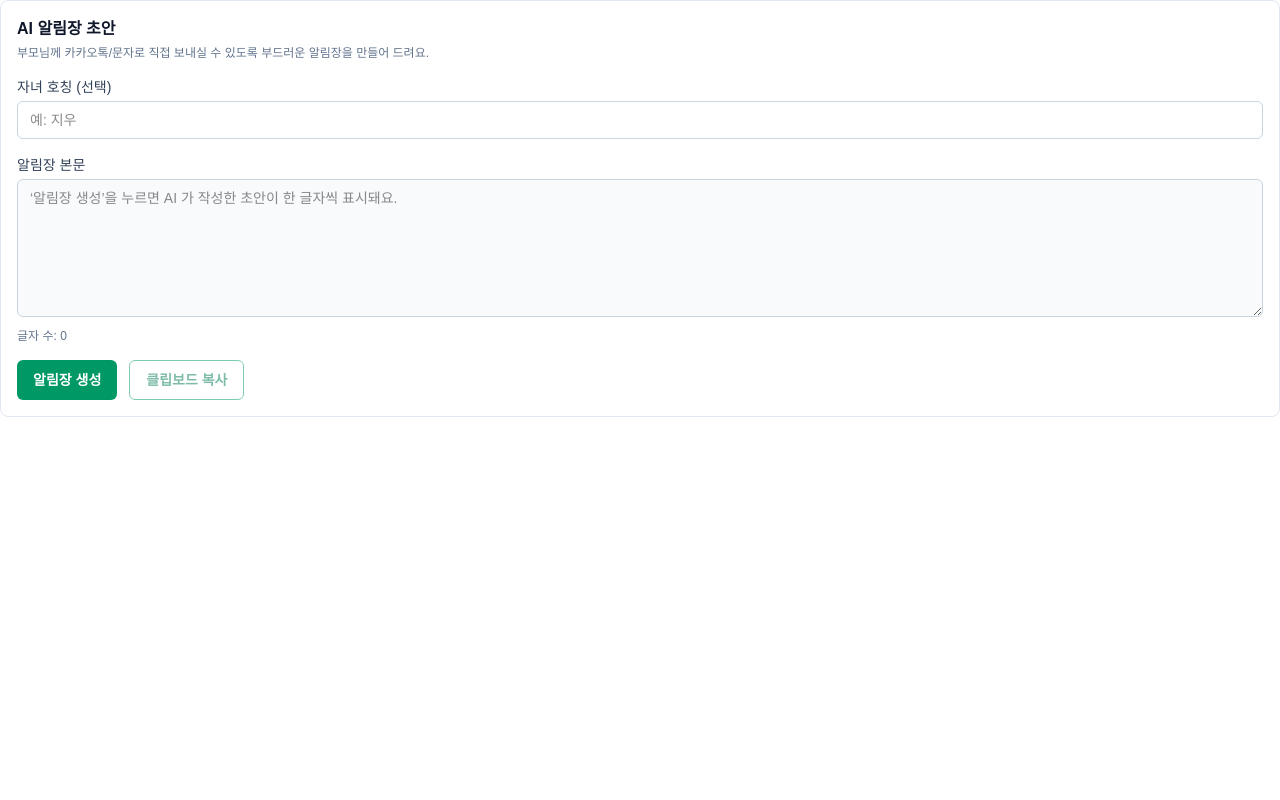
CushionNoteGenerator (email) › scenario 2: parentEmail 존재 + 텍스트 생성 → 이메일 버튼 enabled + 클릭 → confirmation dialog
The width and height of the screenshot is (1280, 800).
Click the button with test id "cushion-generate-button": (67, 380) top-left (17, 360), bottom-right (117, 400)
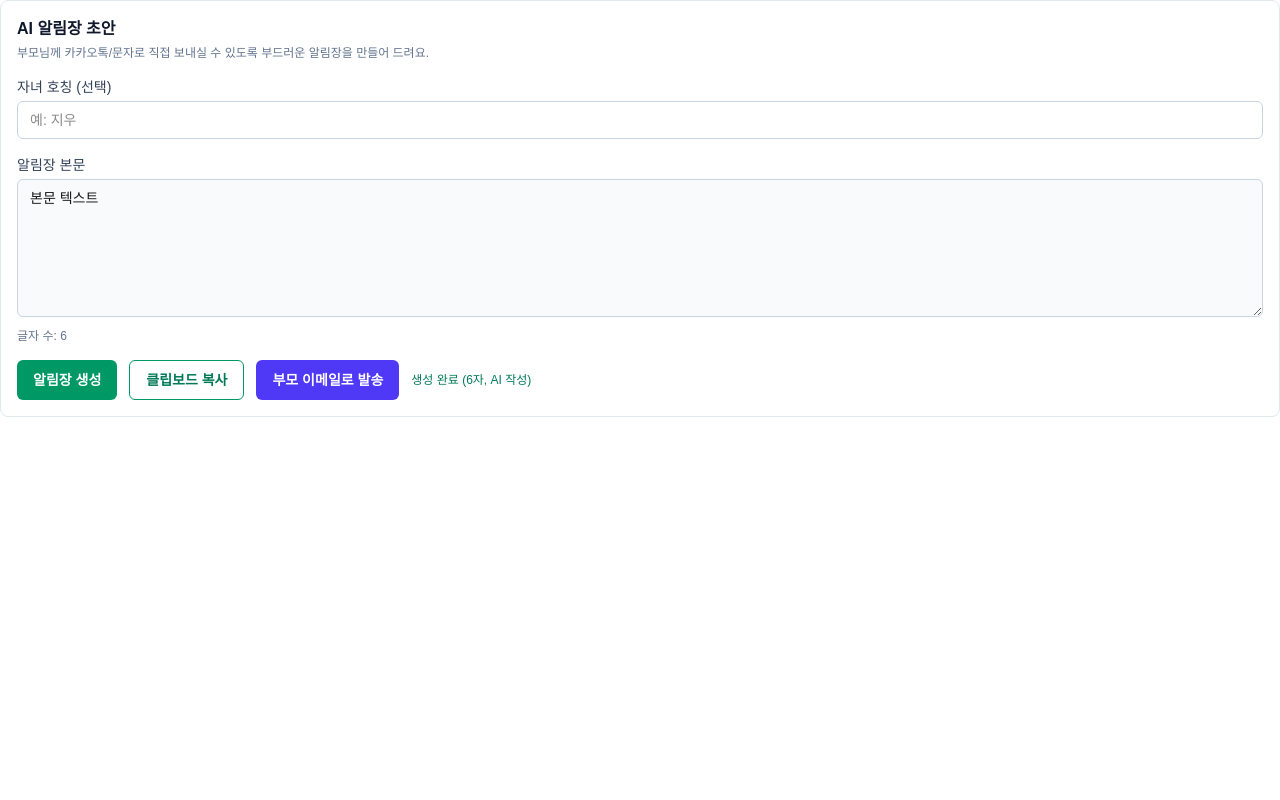
Now the text "생성 완료 (6자, AI 작성)" is shown, box top-left (411, 372), bottom-right (531, 388)
Now the button with test id "cushion-email-button" is enabled
Click the button with test id "cushion-email-button": (328, 380) top-left (256, 360), bottom-right (399, 400)
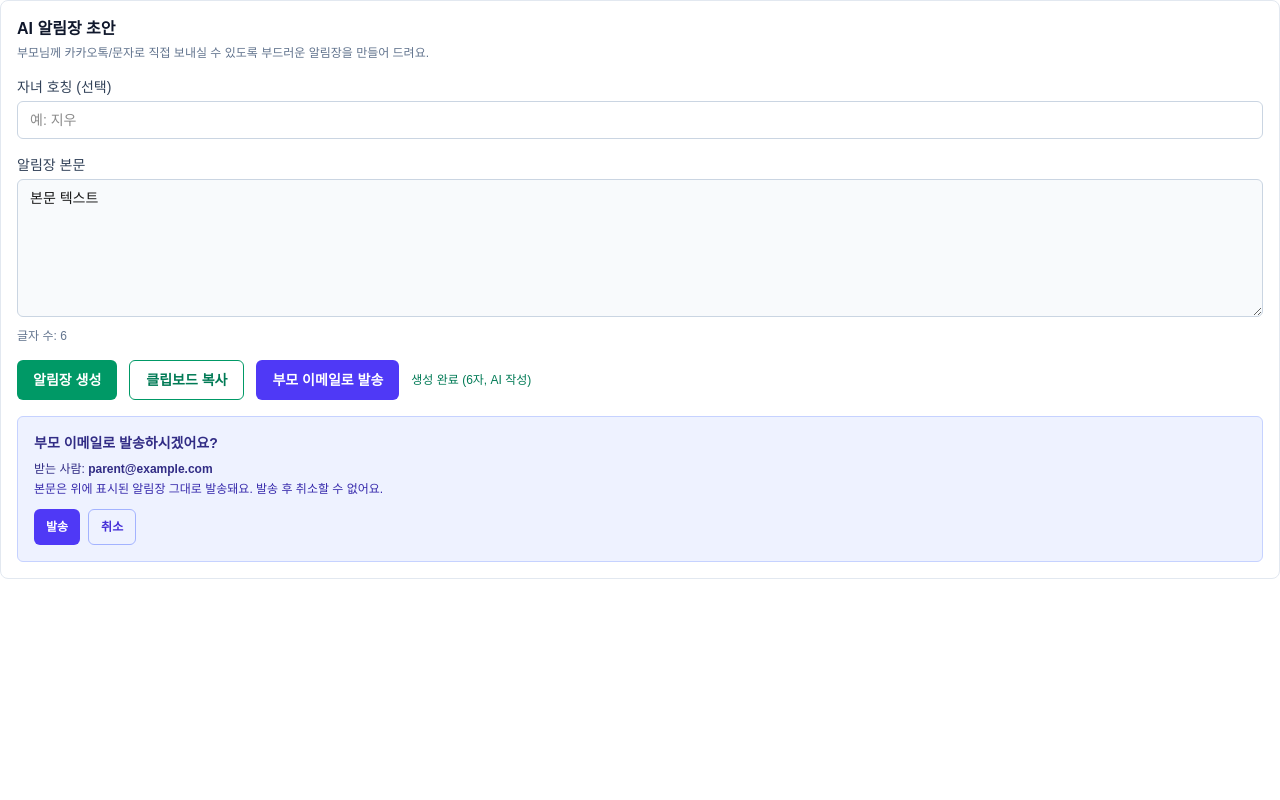
Now the dialog with test id "cushion-email-confirm-dialog" is shown, box top-left (17, 416), bottom-right (1263, 562)
